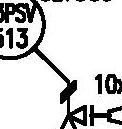psv: (57, 78, 88, 129)
